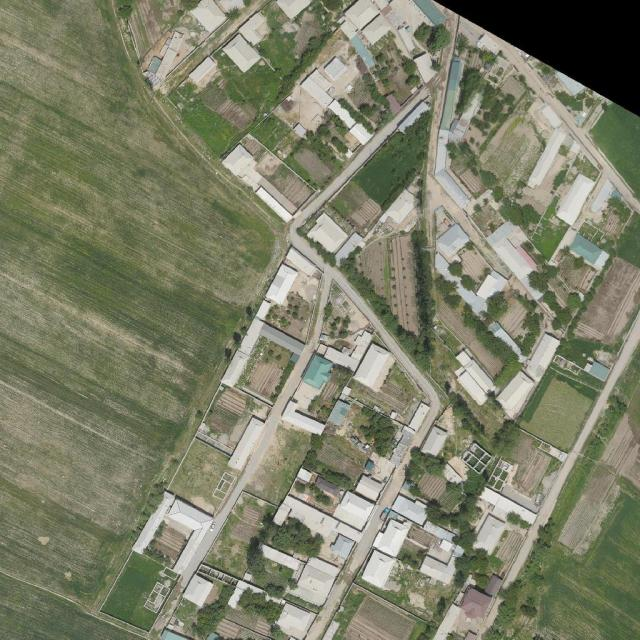agricultural_land: (471, 110, 557, 199), (555, 462, 628, 560), (355, 234, 420, 339), (430, 295, 508, 379), (244, 419, 317, 508), (477, 116, 554, 199), (519, 372, 597, 453), (167, 439, 241, 516), (167, 439, 241, 516), (167, 439, 241, 515), (167, 439, 241, 515), (110, 0, 189, 59), (111, 0, 189, 57), (497, 432, 558, 498), (263, 285, 324, 343), (341, 594, 417, 640), (196, 80, 252, 136), (349, 374, 416, 415), (349, 374, 416, 415), (349, 374, 416, 415), (331, 181, 383, 233), (204, 386, 251, 439), (266, 162, 315, 209), (314, 441, 366, 481), (315, 441, 366, 481), (451, 241, 494, 284), (292, 144, 334, 186), (244, 358, 285, 399), (495, 299, 535, 340), (493, 527, 526, 566), (414, 473, 449, 504), (415, 473, 449, 504)
building: (204, 489, 280, 582), (244, 419, 317, 508), (486, 218, 562, 301), (486, 218, 562, 301), (144, 497, 215, 576), (431, 56, 465, 176), (445, 349, 500, 406), (445, 349, 500, 406), (277, 494, 342, 542), (131, 490, 177, 556), (475, 486, 539, 533), (289, 554, 342, 609), (525, 127, 568, 192), (221, 143, 271, 192), (435, 55, 466, 132), (147, 28, 186, 89), (226, 416, 267, 473), (493, 370, 540, 419), (277, 398, 327, 444), (353, 342, 398, 393), (554, 172, 596, 226), (344, 0, 393, 46), (304, 212, 351, 258), (521, 332, 562, 382), (332, 489, 376, 532), (371, 515, 411, 559), (432, 167, 472, 210), (257, 322, 306, 357), (221, 34, 261, 74), (263, 262, 299, 306), (432, 222, 472, 261), (472, 513, 508, 556), (254, 186, 294, 224), (419, 549, 460, 586), (360, 550, 396, 590), (391, 492, 432, 527), (383, 188, 420, 226), (457, 586, 494, 624), (301, 354, 337, 393), (237, 10, 274, 47), (219, 349, 251, 390), (394, 100, 431, 134), (283, 246, 319, 280), (475, 269, 509, 305), (568, 232, 604, 264), (238, 316, 266, 356), (299, 77, 334, 109), (420, 424, 451, 460), (322, 345, 361, 373), (182, 574, 214, 607), (348, 34, 378, 69), (346, 327, 375, 362), (327, 98, 358, 129), (551, 71, 585, 98), (188, 55, 218, 85), (354, 474, 385, 503), (413, 52, 440, 84), (406, 401, 432, 432), (537, 101, 564, 130), (326, 398, 352, 428), (323, 56, 348, 81), (347, 122, 373, 146), (309, 68, 335, 92), (397, 26, 418, 53), (338, 18, 361, 41), (480, 487, 501, 507), (340, 524, 362, 542), (296, 468, 314, 485), (160, 630, 191, 639), (591, 273, 605, 291)
dryland: (429, 57, 469, 209), (273, 83, 331, 141), (474, 34, 502, 61)
greenland: (337, 250, 441, 376), (351, 104, 455, 211), (163, 54, 268, 159), (101, 549, 179, 634), (430, 295, 508, 380), (244, 419, 316, 508), (582, 95, 640, 200), (356, 32, 431, 109), (269, 25, 334, 107), (207, 52, 284, 116), (454, 304, 521, 371), (172, 96, 240, 159), (410, 229, 440, 358), (234, 533, 290, 601), (425, 494, 487, 555), (347, 400, 407, 459), (465, 82, 520, 142), (254, 21, 311, 78), (269, 513, 329, 566), (415, 336, 467, 389), (587, 391, 632, 444), (443, 389, 487, 441), (279, 11, 326, 57), (235, 584, 286, 626), (555, 327, 603, 370), (451, 65, 489, 119), (403, 447, 448, 491), (469, 392, 511, 439), (250, 111, 294, 154), (512, 309, 547, 356), (486, 418, 525, 459), (494, 576, 524, 628), (497, 198, 542, 230), (343, 75, 375, 112), (475, 270, 508, 305), (480, 289, 514, 322), (448, 551, 476, 588), (330, 292, 357, 321), (443, 292, 463, 311), (119, 5, 132, 19), (362, 55, 372, 67)
unmetalled_road: (321, 250, 451, 431), (289, 85, 433, 232), (216, 343, 323, 525), (304, 463, 413, 640), (306, 266, 335, 351), (369, 317, 402, 355), (188, 547, 208, 570)
